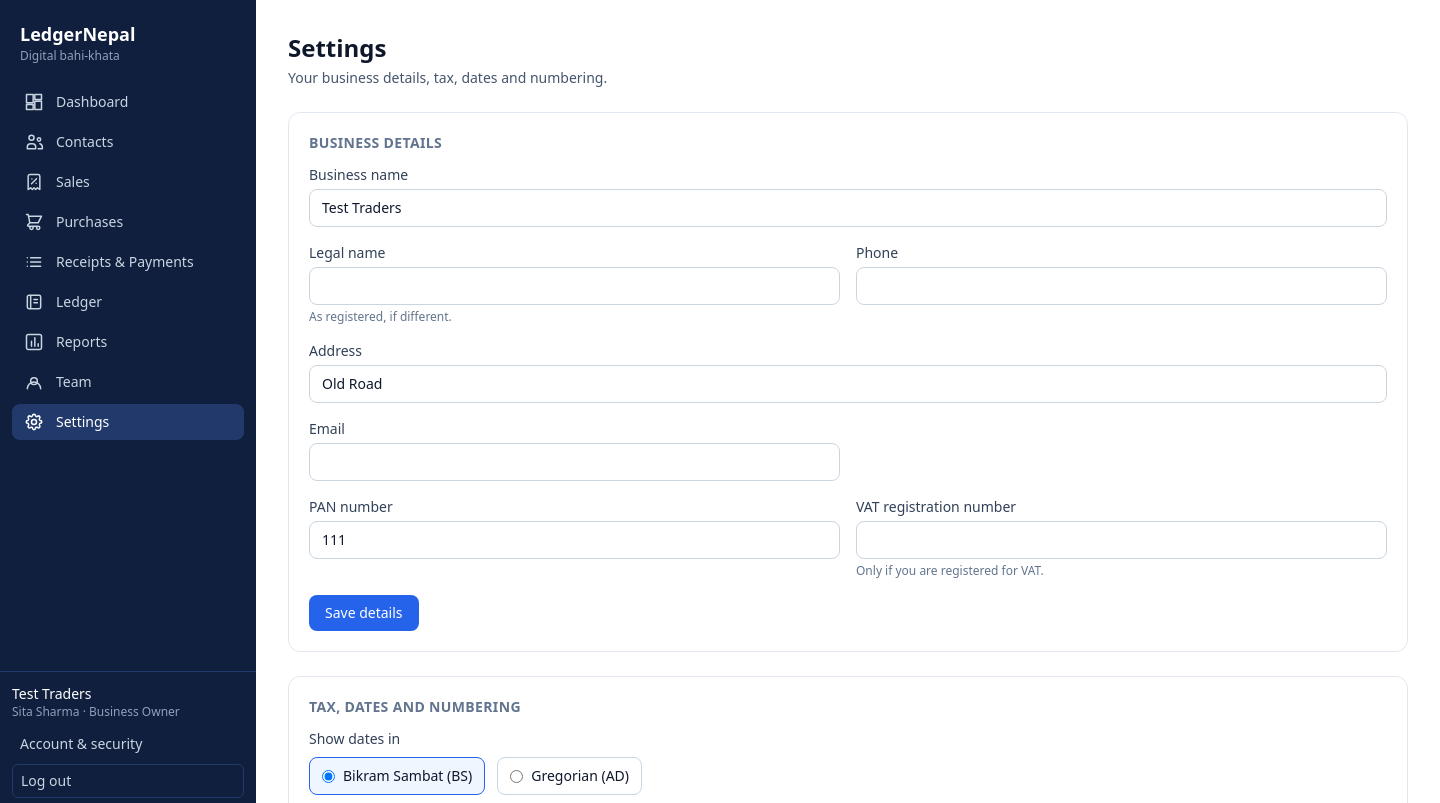
Scenario: Settings › saves the business details, including clearing optional ones
Clear the field labelled "PAN number". click: (574, 540)
box: [309, 521, 840, 559]
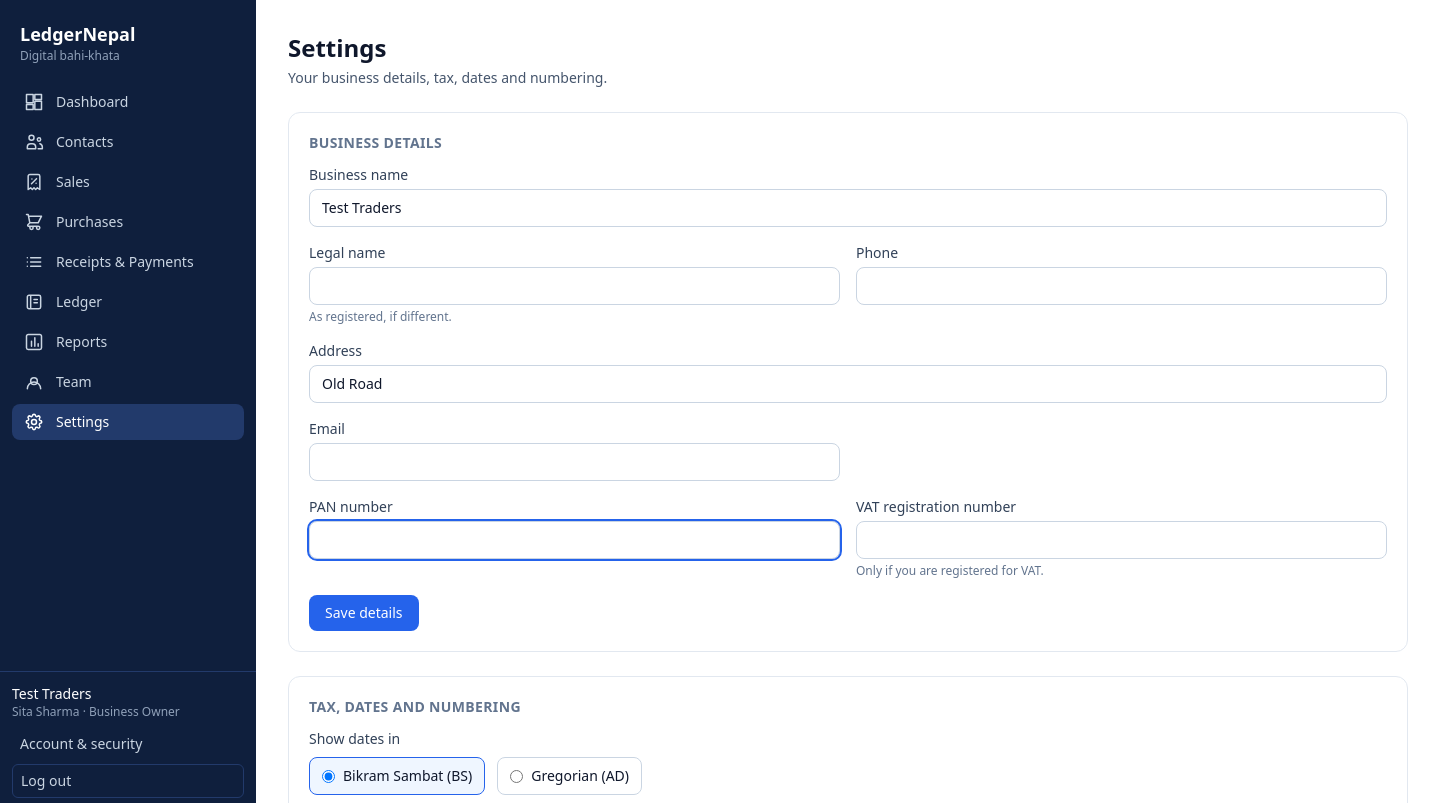
Replace the text in the field labelled "Address" with "Thamel". click: (848, 384)
box: [309, 365, 1387, 403]
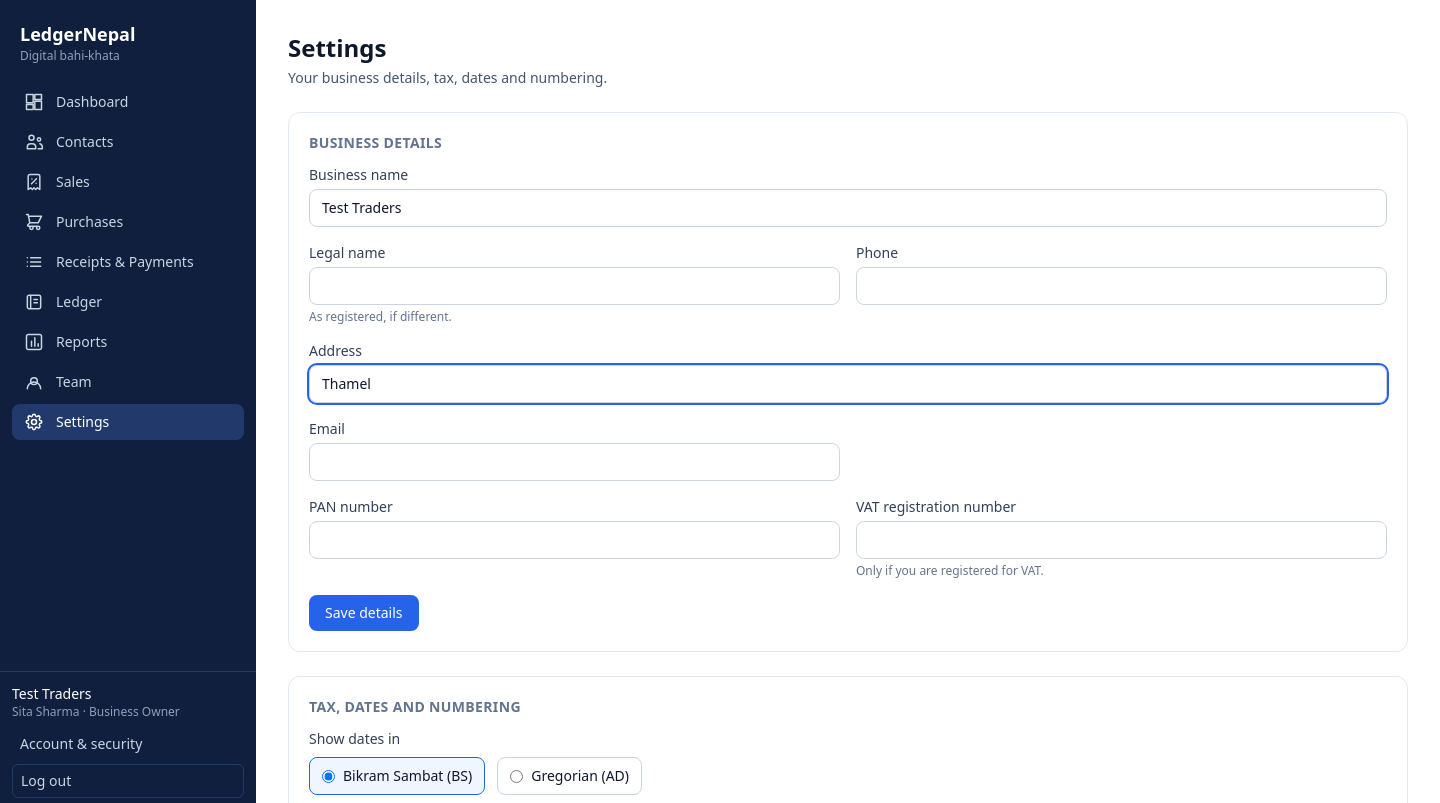
Type "987" into the field labelled "VAT registration number". click: (1122, 540)
box: [856, 521, 1387, 559]
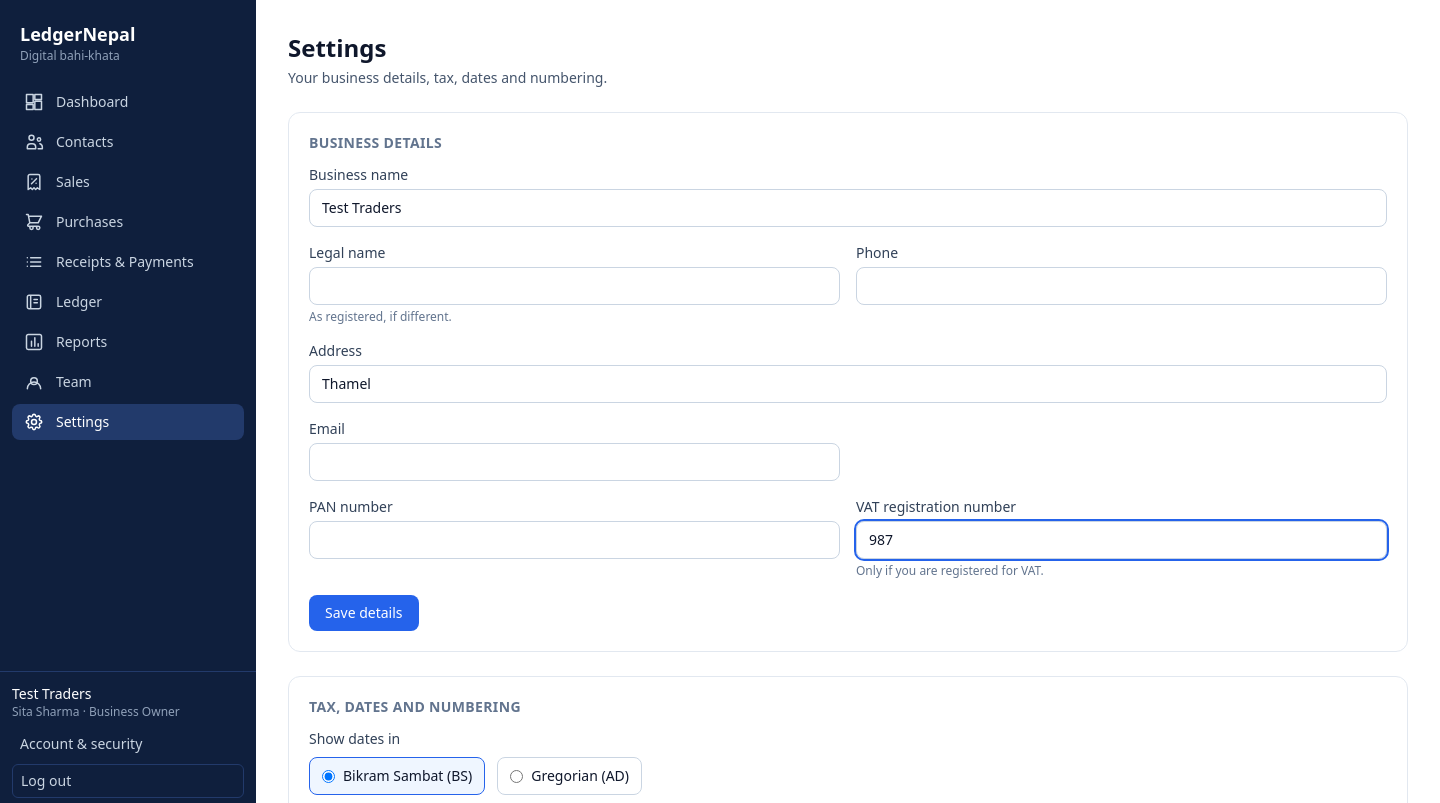
Click the button "Save details". click: (364, 613)
box: [309, 595, 418, 631]
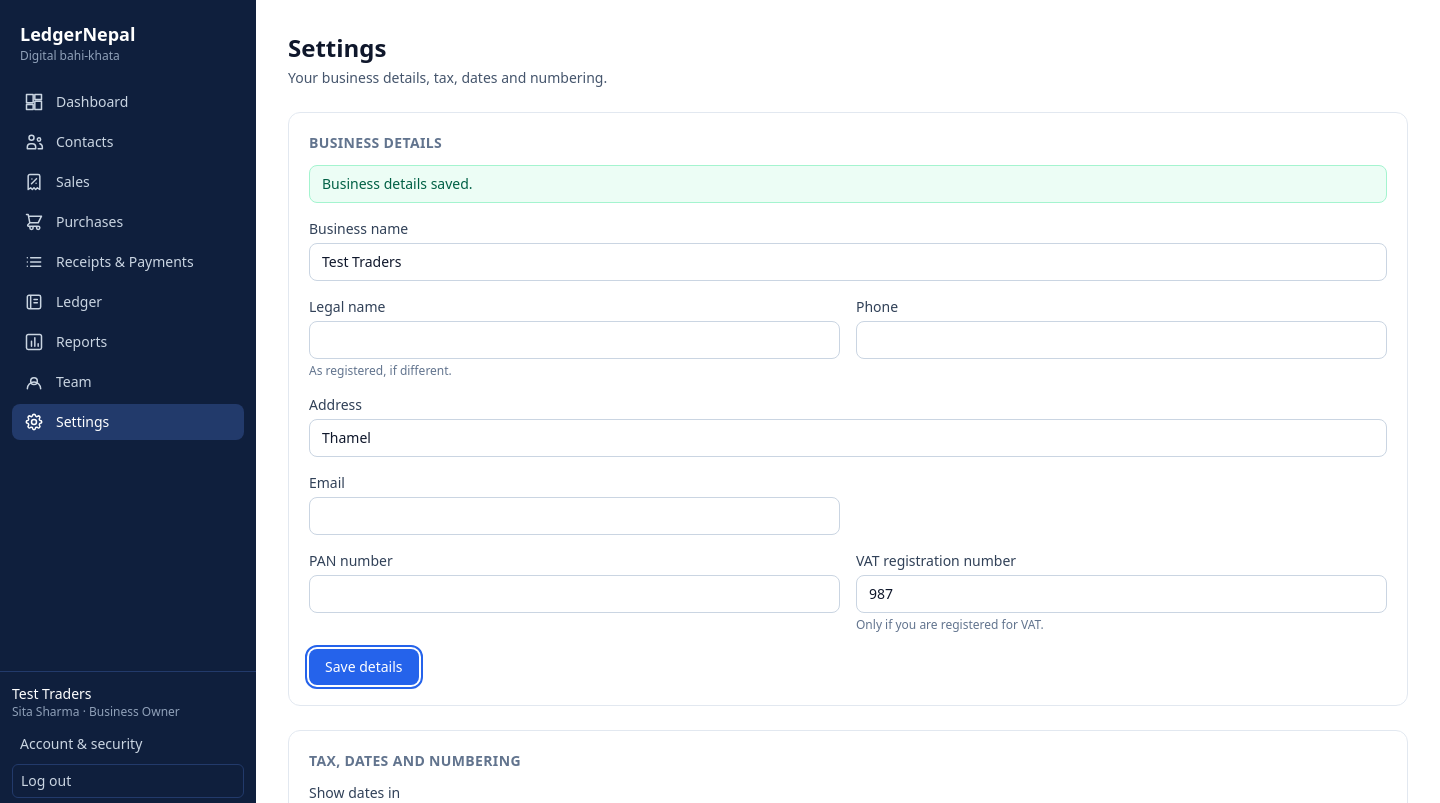
Now the text "Business details saved." is shown, box [309, 165, 1387, 203]
